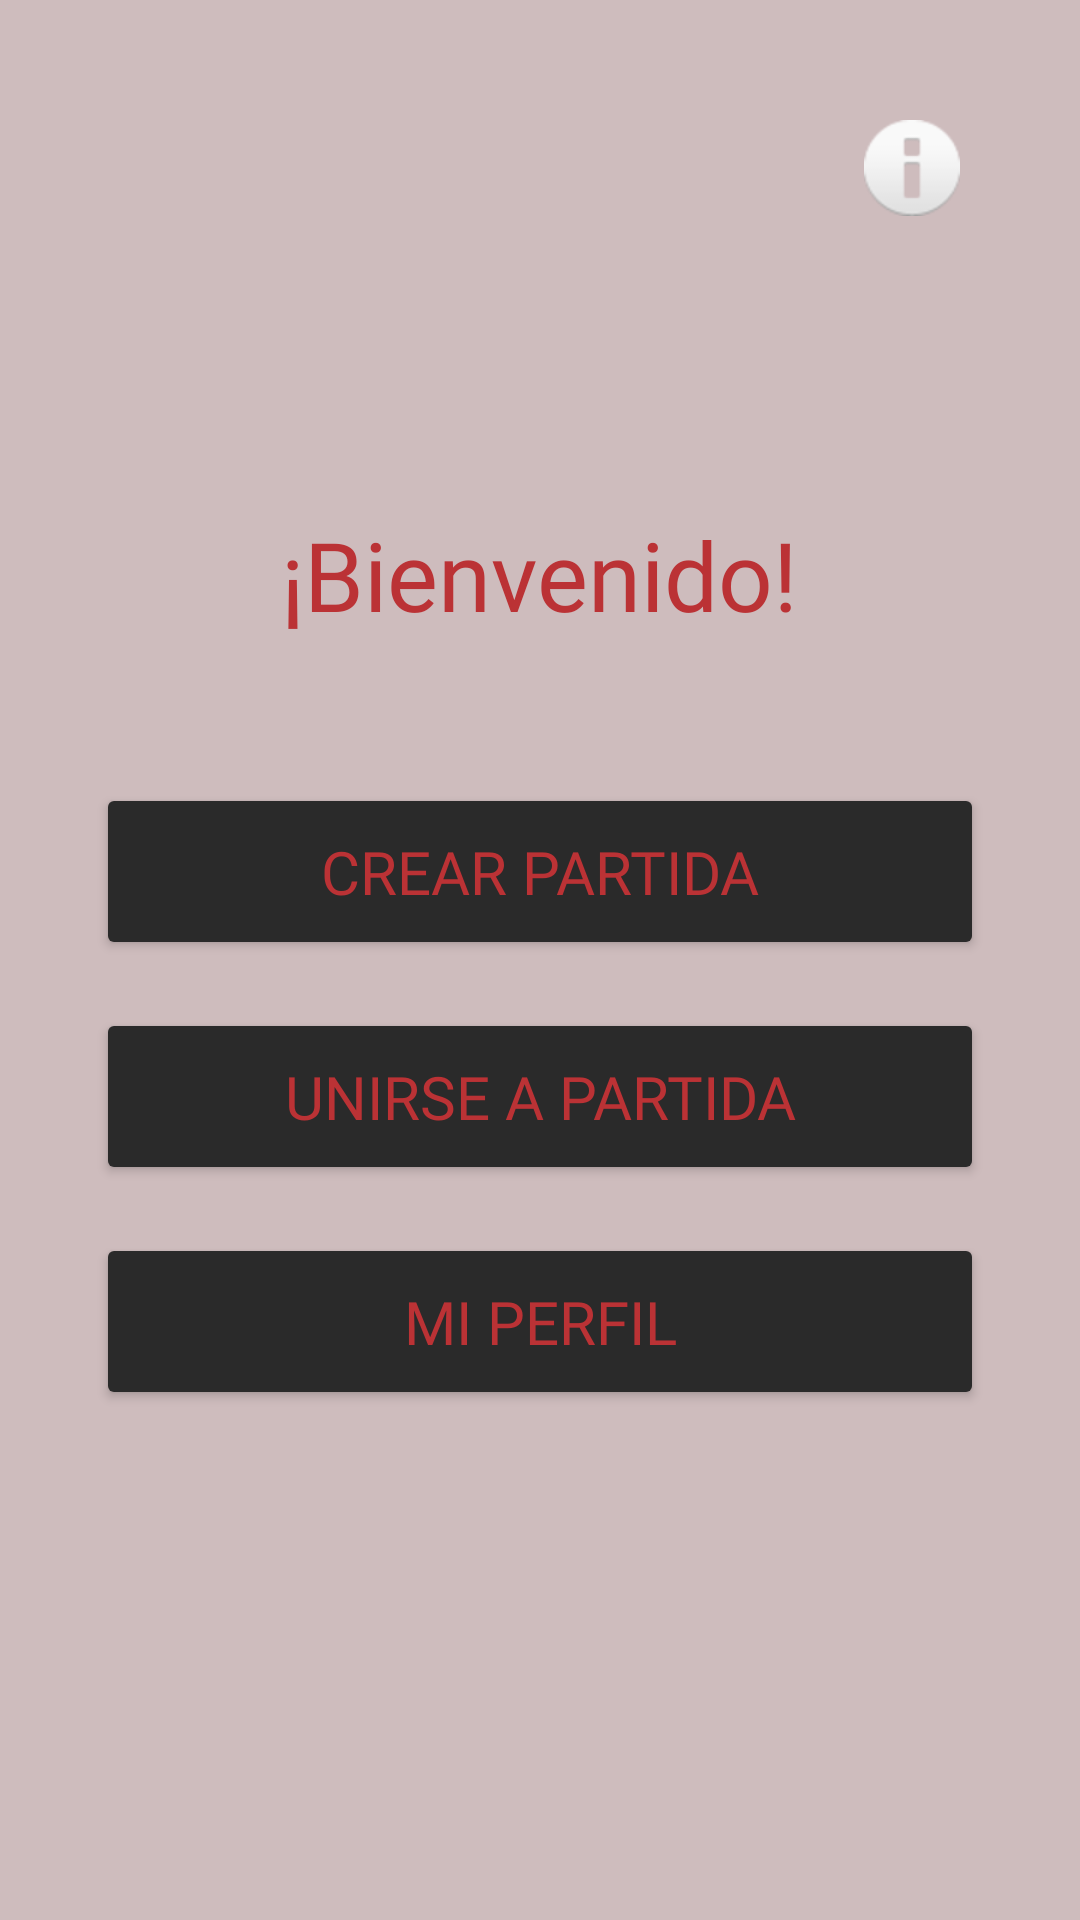

Icon bounding boxes for this 1080x1920 phone screenshot, format (x1, y1, x2, y2):
Cómo se juega: (864, 120, 960, 216)
